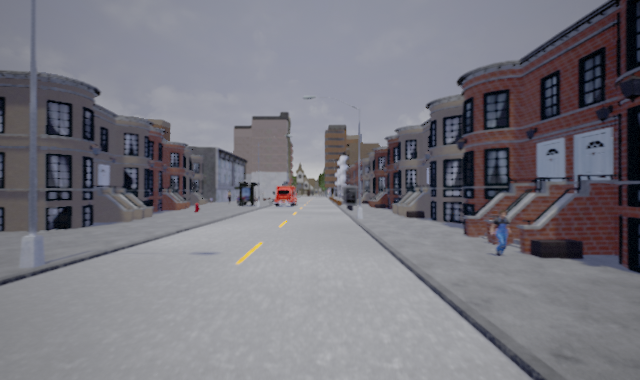pedestrian: (489, 206, 511, 257)
vehicle: (271, 185, 298, 207)
